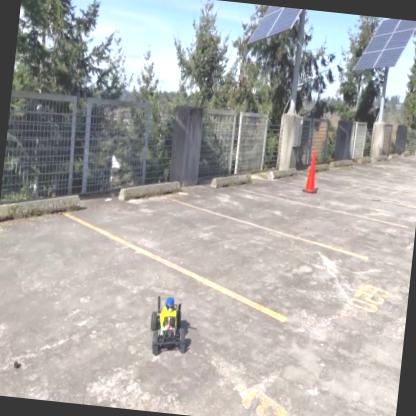cone: (300, 147, 324, 195)
mushr_car: (144, 292, 194, 361)
